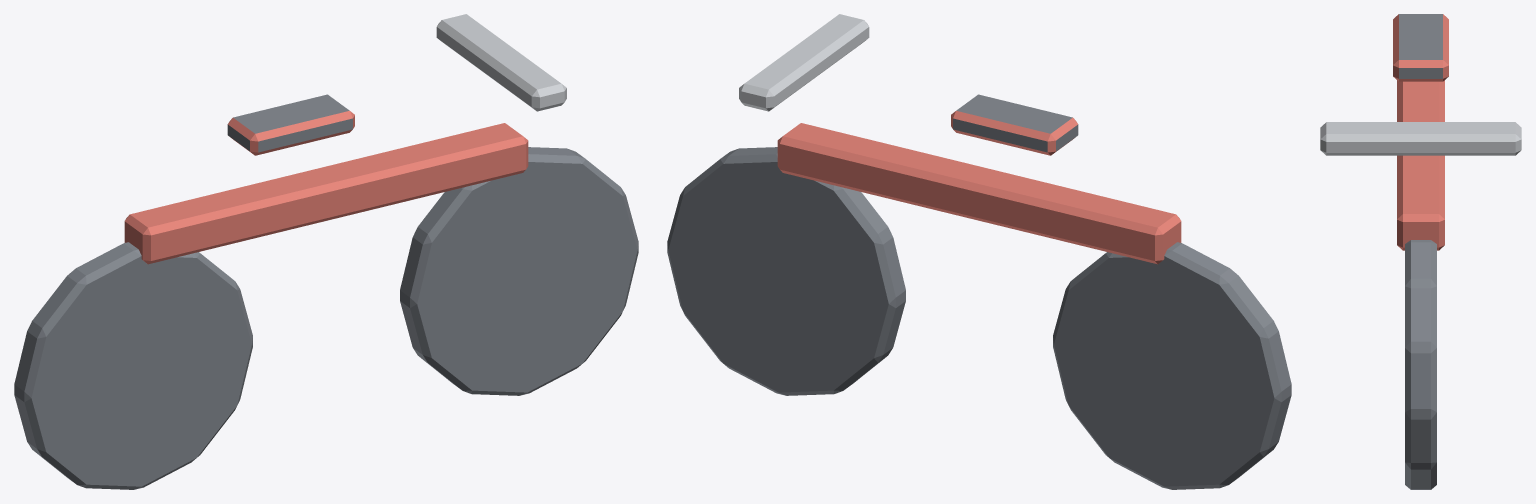
Rendered from 街道_自行车_01.fbx.
The picture shows the model from 3 angles, left to right: view 1: azimuth 30°, elevation 25°; view 2: azimuth 150°, elevation 25°; view 3: azimuth 270°, elevation 25°; orthographic projection.
Visible parts, largest first — view 1: 车轮, 车架, 车把; view 2: 车轮, 车架, 车把; view 3: 车架, 车轮, 车把.
Boxes of the visible parts, x1=… form: 车轮: x1=14, y1=147, x2=638, y2=489; 车架: x1=124, y1=94, x2=528, y2=264; 车把: x1=436, y1=14, x2=566, y2=111; 车轮: x1=667, y1=147, x2=1291, y2=489; 车架: x1=777, y1=94, x2=1181, y2=264; 车把: x1=739, y1=14, x2=869, y2=111; 车架: x1=1393, y1=14, x2=1448, y2=250; 车轮: x1=1405, y1=240, x2=1436, y2=489; 车把: x1=1320, y1=122, x2=1521, y2=155.
Size of the model in its own units: 175 by 93.61 by 50.
